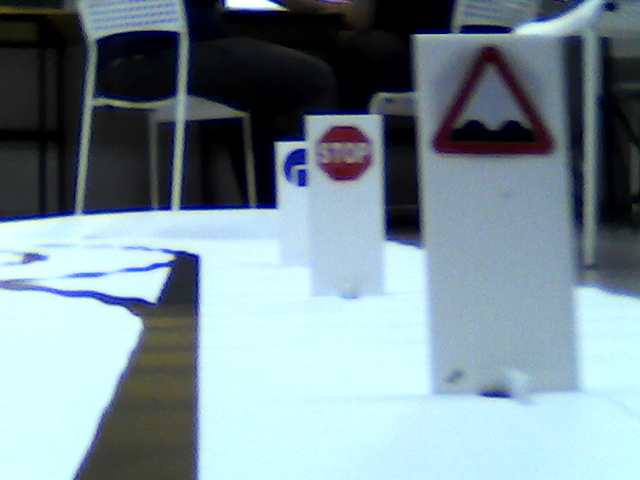Nerov: (428, 42, 560, 159)
Stop: (314, 126, 374, 180)
